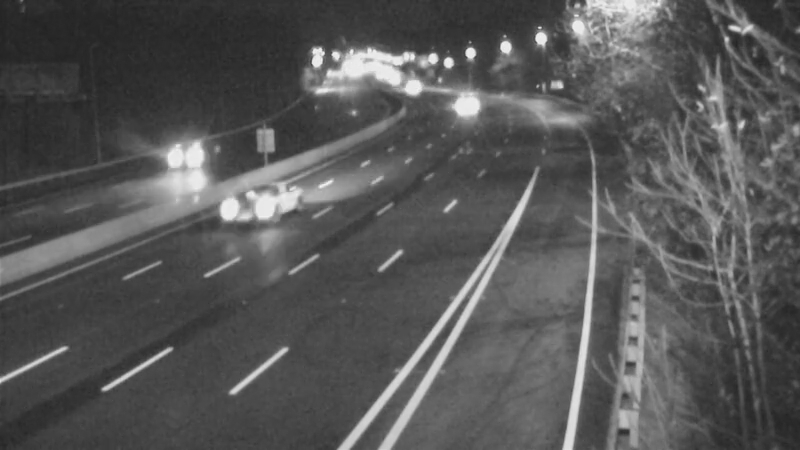vehicle: (214, 167, 294, 247), (135, 114, 215, 194), (385, 62, 435, 112), (437, 79, 487, 129)
